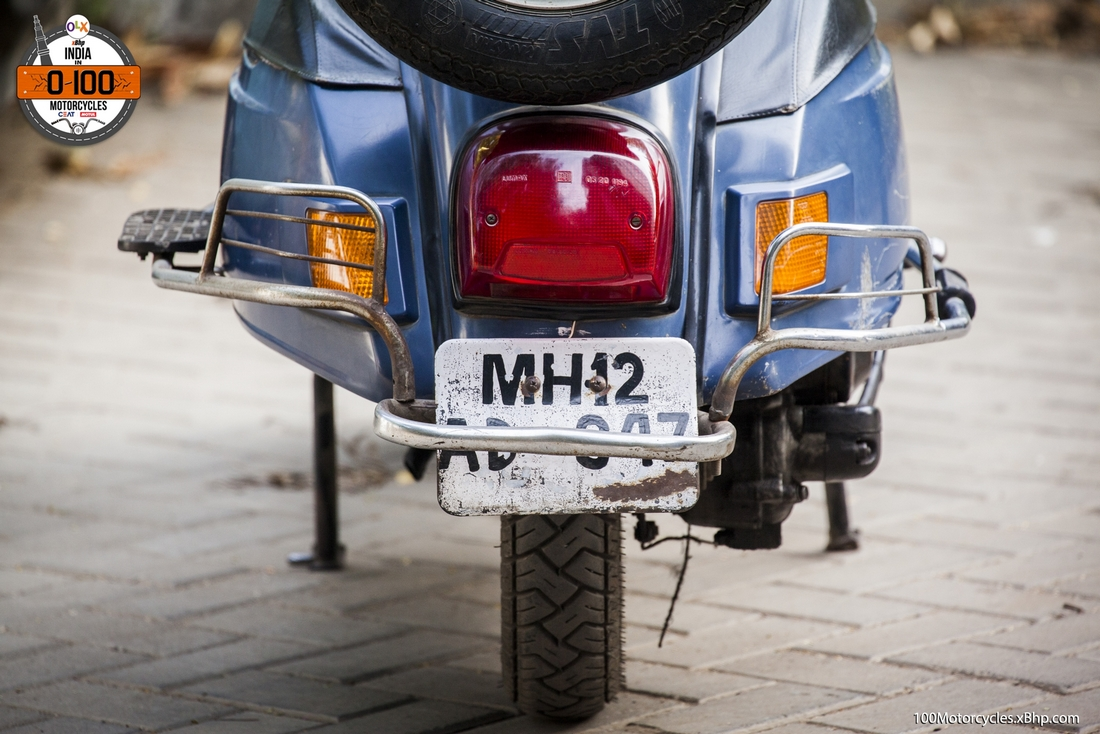number_plate: (431, 335, 700, 520)
